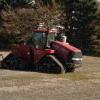Tractor: (10, 32, 84, 80)
